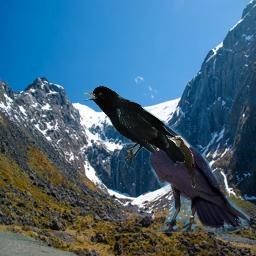Crow: (124, 118, 250, 233), (82, 86, 185, 168)
Cuckoo: (171, 137, 196, 188)
